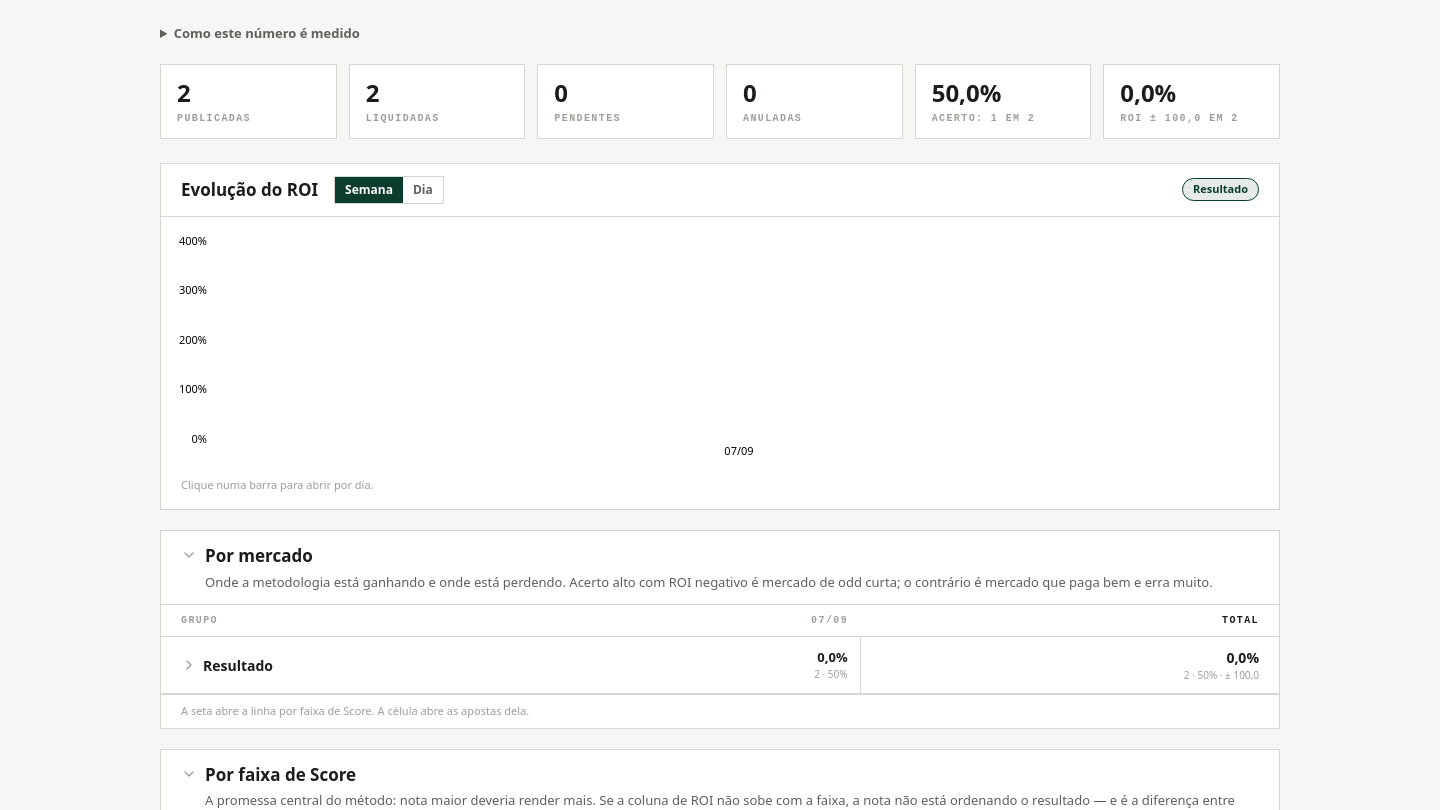
Test: a ordenação dentro do drill › abre no pior primeiro, que é a pergunta de quem clicou numa célula vermelha
This screenshot has width=1440, height=810.
Click the cell "0,0% 2 · 50%" at (832, 657), box [639,636,860,694]
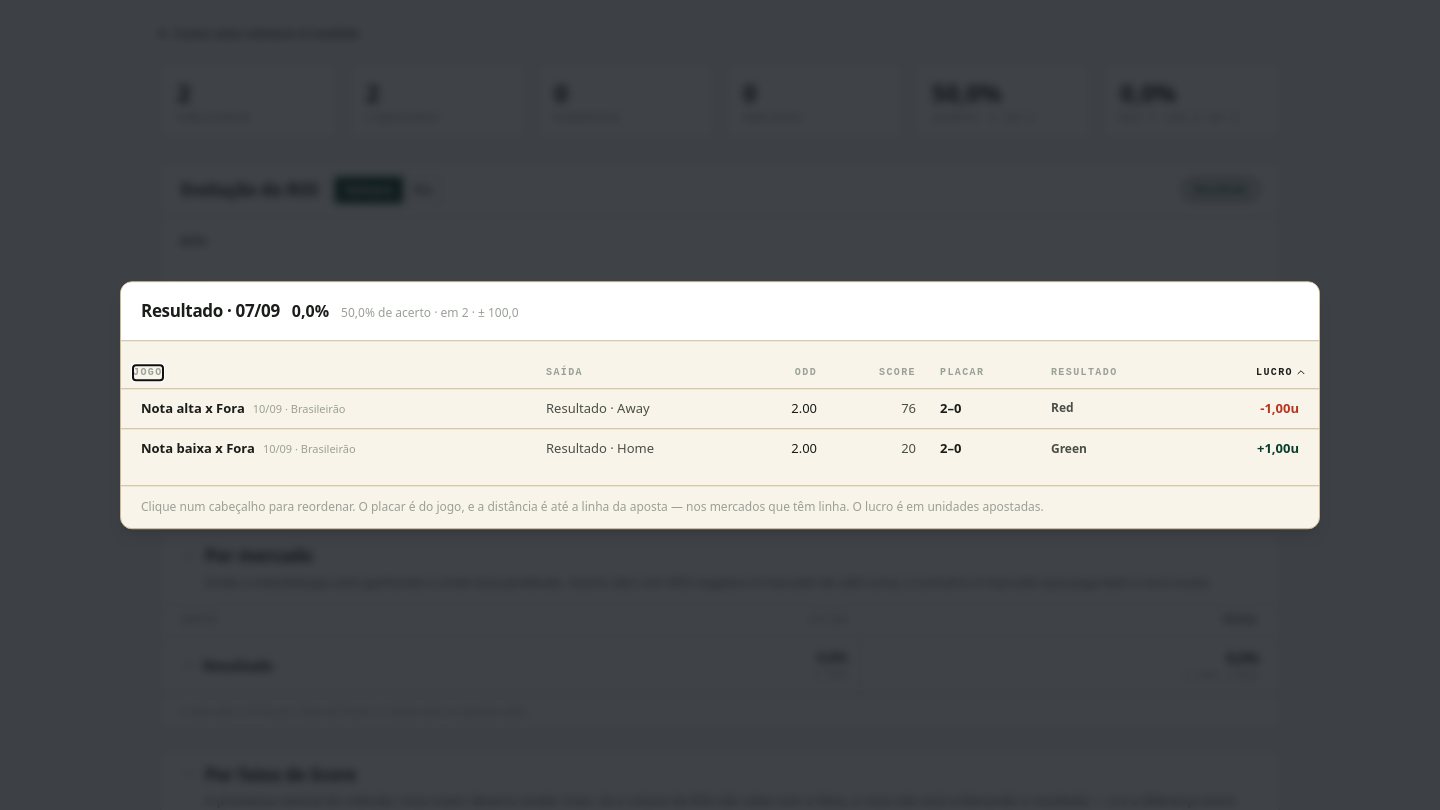
Now the cell "Nota alta x Fora10/09 · Brasileirão" is shown, box [121,388,534,429]
